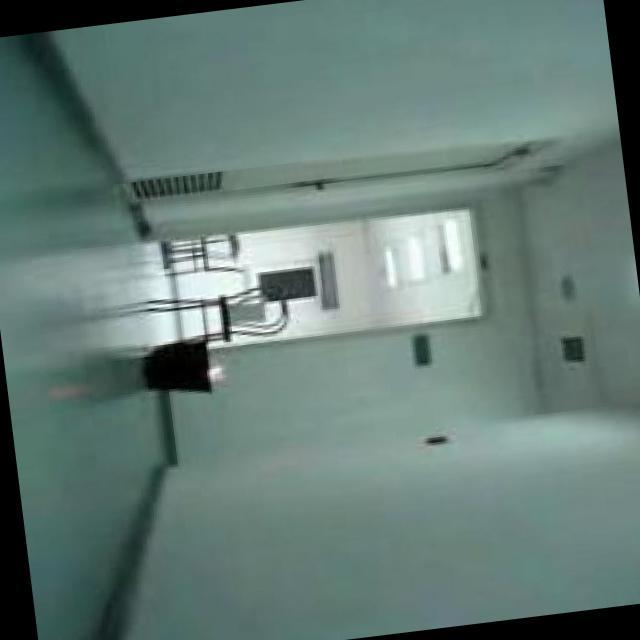Fire: (208, 364, 228, 388)
